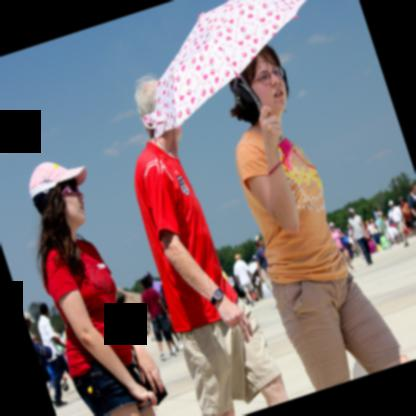handbag: (144, 375, 168, 408)
